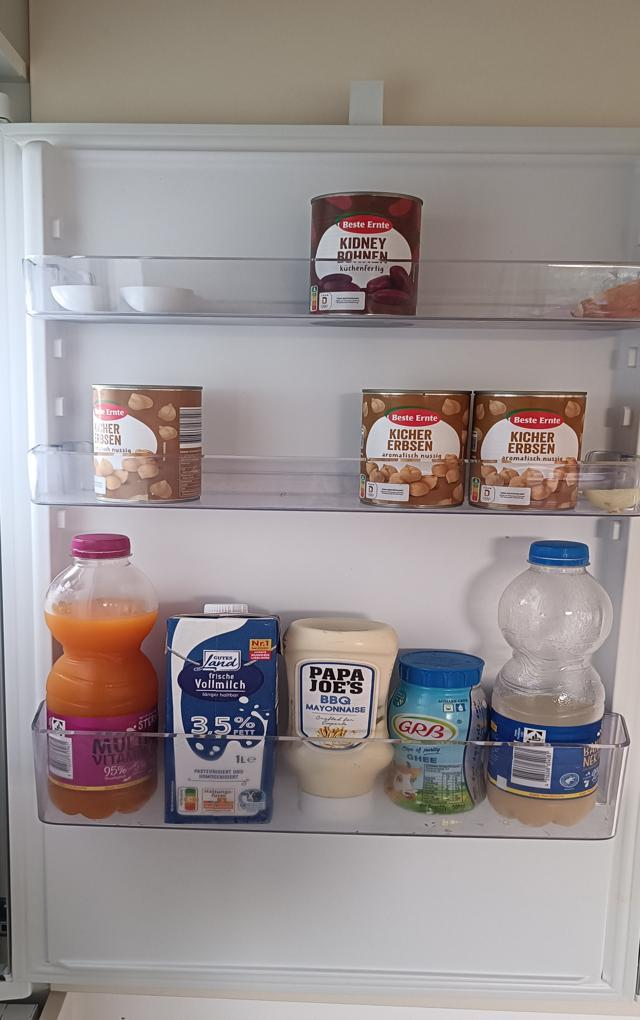bananajuice: (493, 539, 614, 828)
chickpeas: (91, 384, 205, 503), (473, 391, 586, 511), (359, 389, 469, 509)
ghee: (392, 647, 487, 815)
kidneybeans: (308, 190, 423, 320)
mayoniasie: (282, 616, 400, 818)
milk: (167, 601, 283, 828)
orangejuice: (43, 531, 165, 819)
